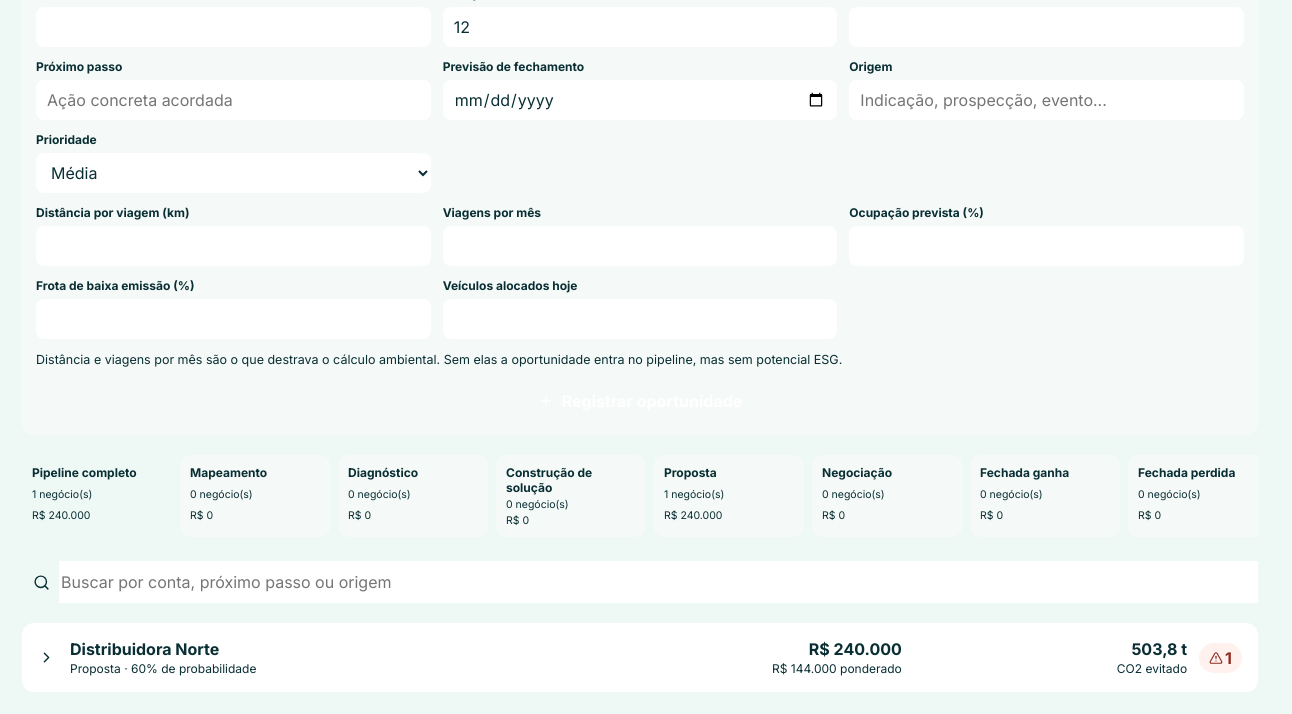
it: página de oportunidades › risco crítico aparece no cabeçalho, antes de abrir o card
(page scrolled)
What coordinates should you click on to do the following:
click the button "Distribuidora Norte"
I would click on:
 (145, 649)
Its box is [22,623,1258,692].
(page scrolled)
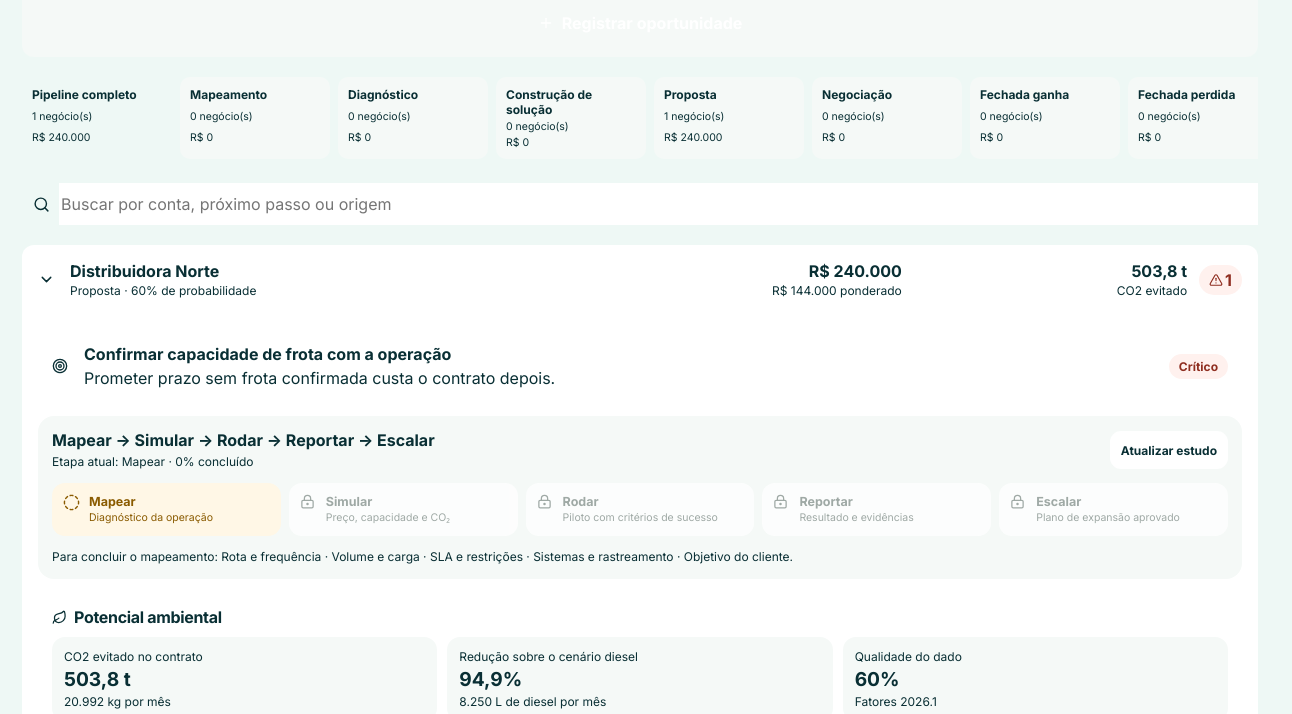
Check: the text "Confirmar capacidade de frota com a operação" is shown, box [84,344,451,364]
